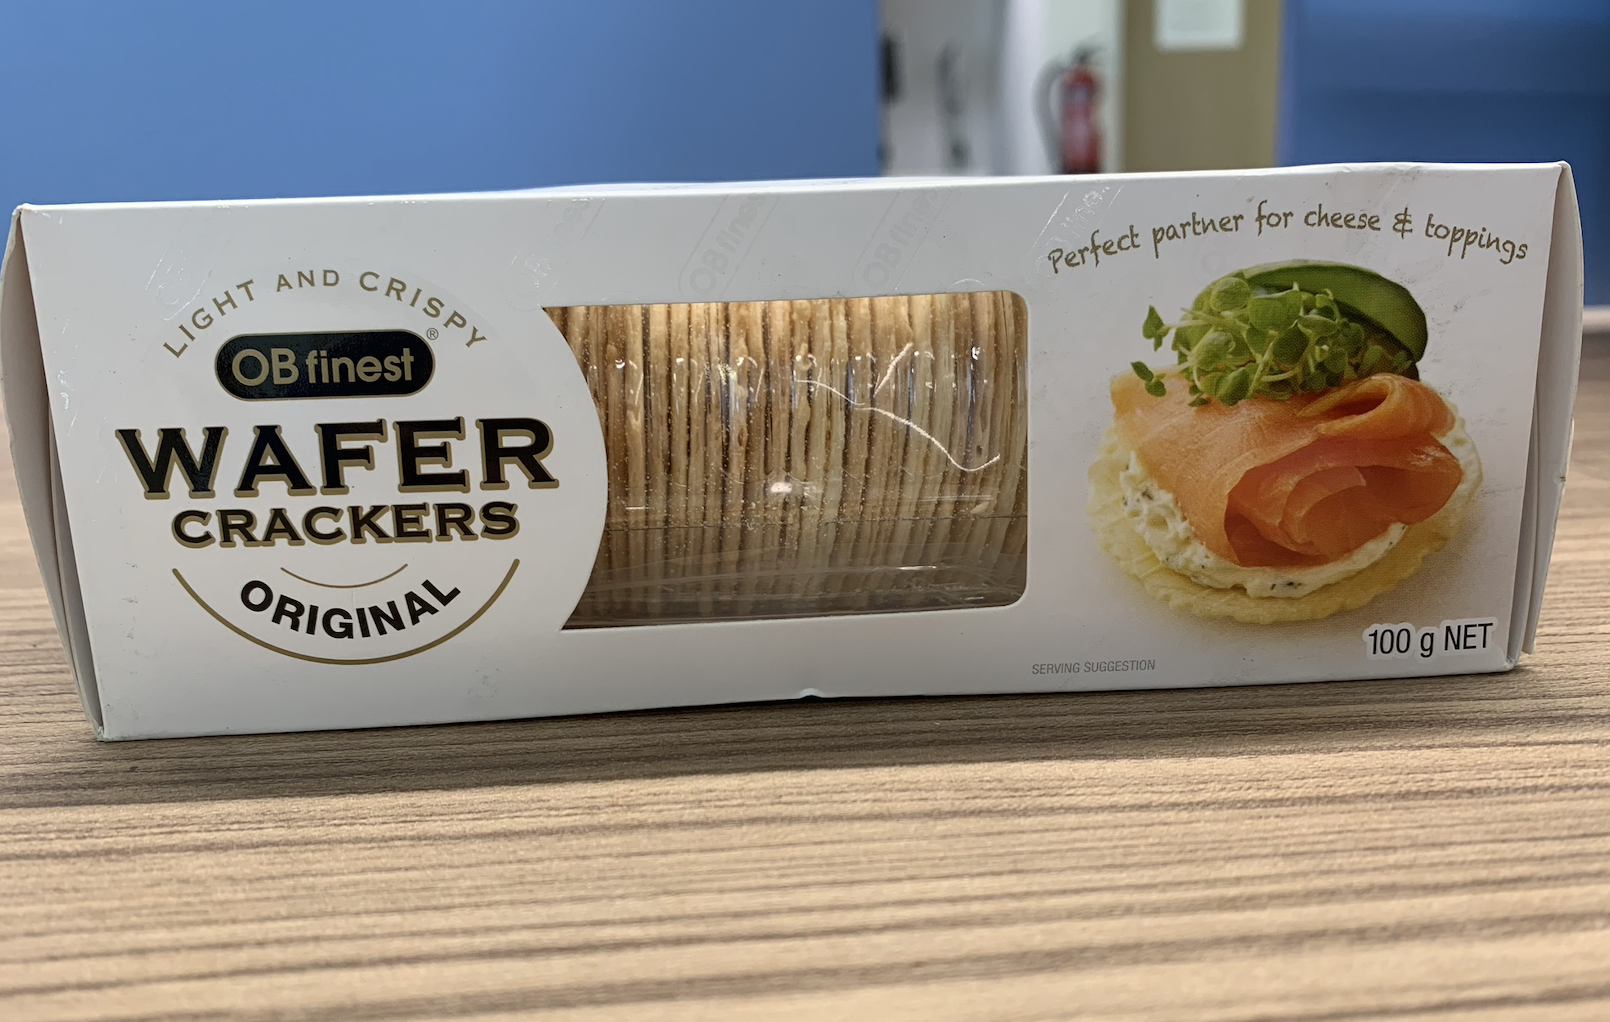crackers_150g: (96, 204, 1531, 663)
